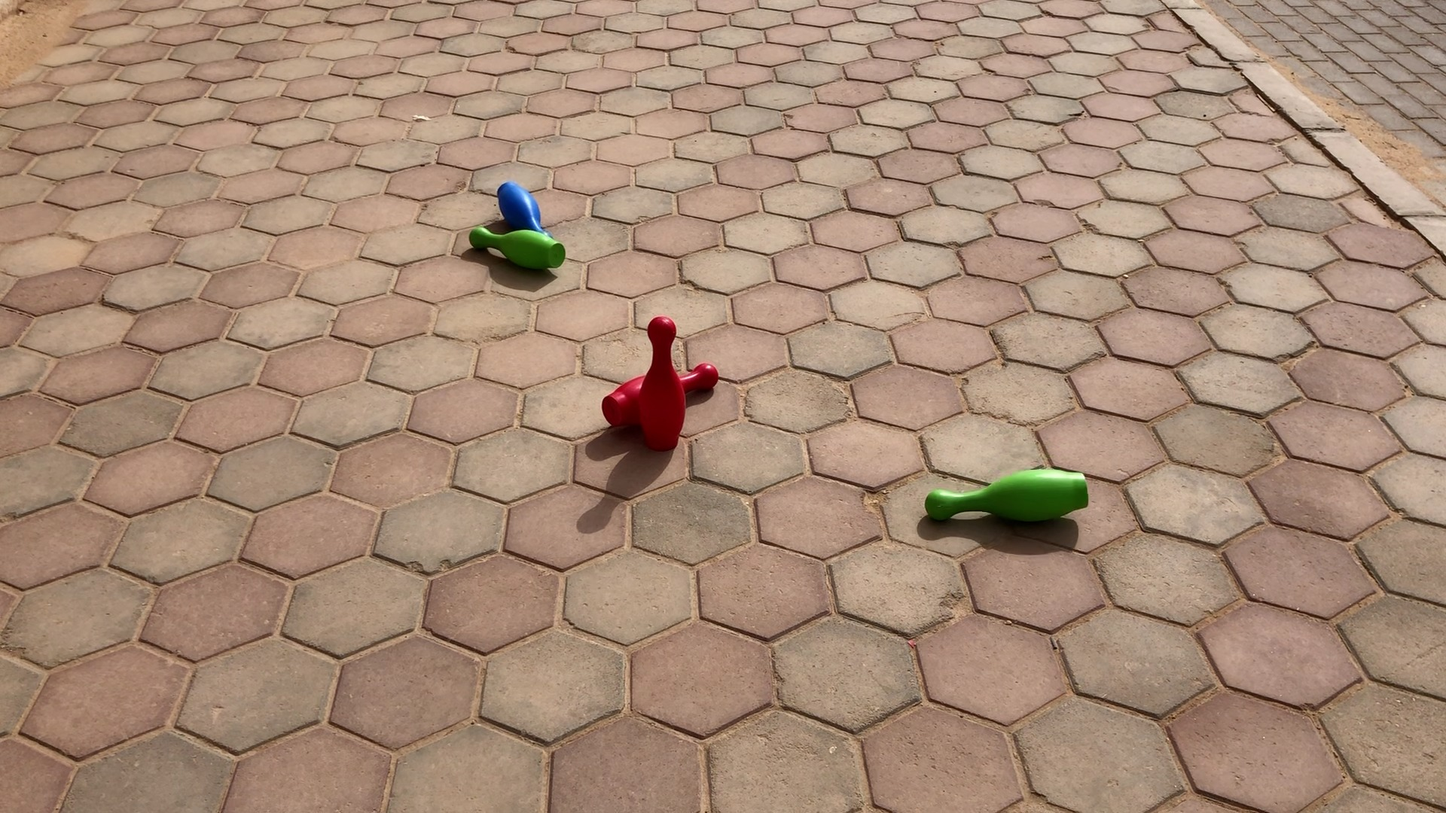pin: (615, 317, 689, 447), (923, 470, 1088, 525), (604, 365, 716, 422), (470, 225, 566, 272), (498, 181, 541, 234)
